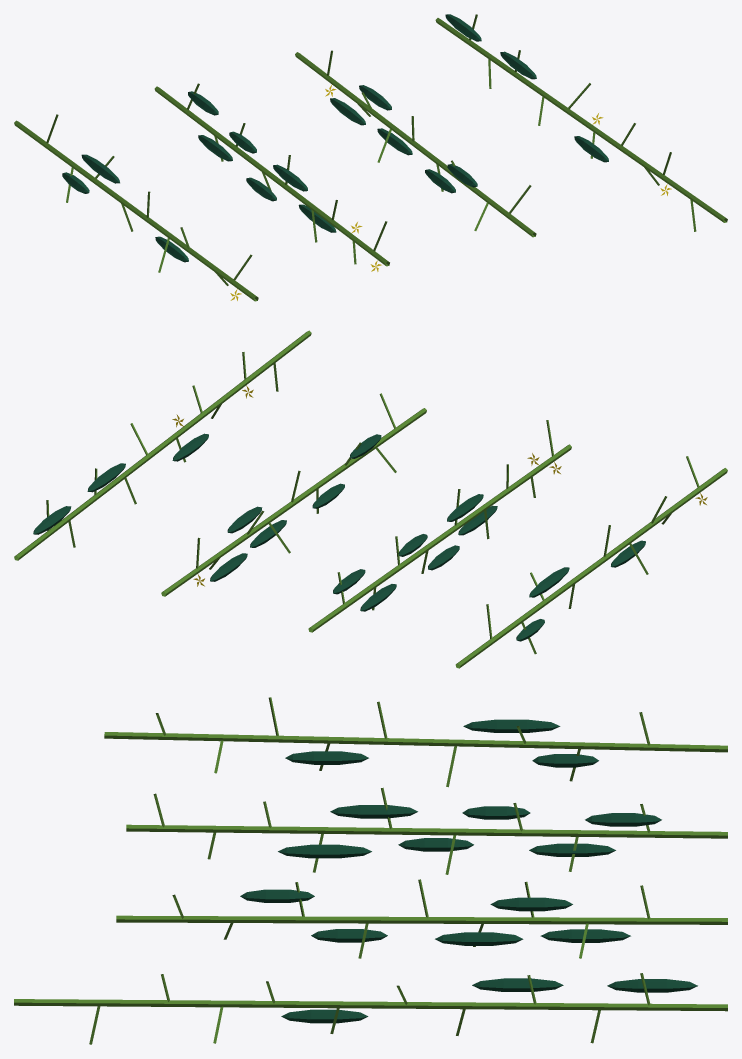
The model's file is r24c4_stems.obj.
3 renders of one model, top to bottom at view 1: azimuth 30°, elevation 25°; view 2: azimuth 150°, elevation 25°; view 3: azimuth 270°, elevation 25°, orthographic. The views are drawn at different scales.
Visible parts, largest first — view 1: r24c4_stems; view 2: r24c4_stems; view 3: r24c4_stems.
Boxes of the visible parts, x1,y1,x2,y2 form: r24c4_stems: (14,14,727,301); r24c4_stems: (14,330,727,668); r24c4_stems: (14,697,727,1044).
Bounding box in the file's own units: 2.07 × 0.2865 × 2.19.
